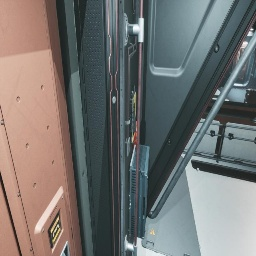EmergencyPhone ,: (130, 85, 137, 144)
FireAlarm ,: (133, 121, 137, 157)
